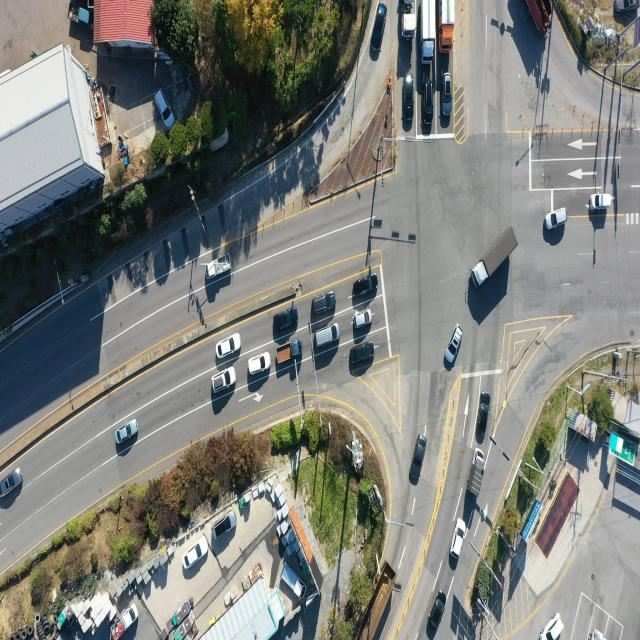car: (369, 0, 390, 60), (410, 433, 428, 485), (184, 539, 210, 571), (477, 393, 492, 444), (157, 89, 176, 129), (0, 470, 23, 500), (540, 614, 566, 640), (429, 589, 446, 628), (313, 323, 339, 348), (404, 75, 416, 129), (446, 326, 463, 364), (213, 511, 236, 539), (218, 335, 242, 361), (348, 342, 374, 366), (212, 368, 237, 392), (452, 518, 466, 560), (274, 308, 298, 332), (353, 276, 378, 299), (310, 292, 336, 314), (248, 351, 271, 375), (546, 208, 568, 232), (115, 420, 137, 444), (443, 73, 454, 118), (422, 81, 433, 125), (590, 194, 612, 212), (353, 310, 372, 328), (616, 0, 639, 13)
medium_truck: (357, 559, 397, 640), (474, 231, 520, 292), (520, 0, 554, 38), (419, 0, 439, 63), (441, 0, 458, 56), (403, 0, 418, 40)
small_truck: (113, 602, 139, 640), (470, 449, 489, 499), (280, 560, 304, 597), (207, 259, 233, 283), (276, 340, 301, 364), (68, 3, 92, 28)
